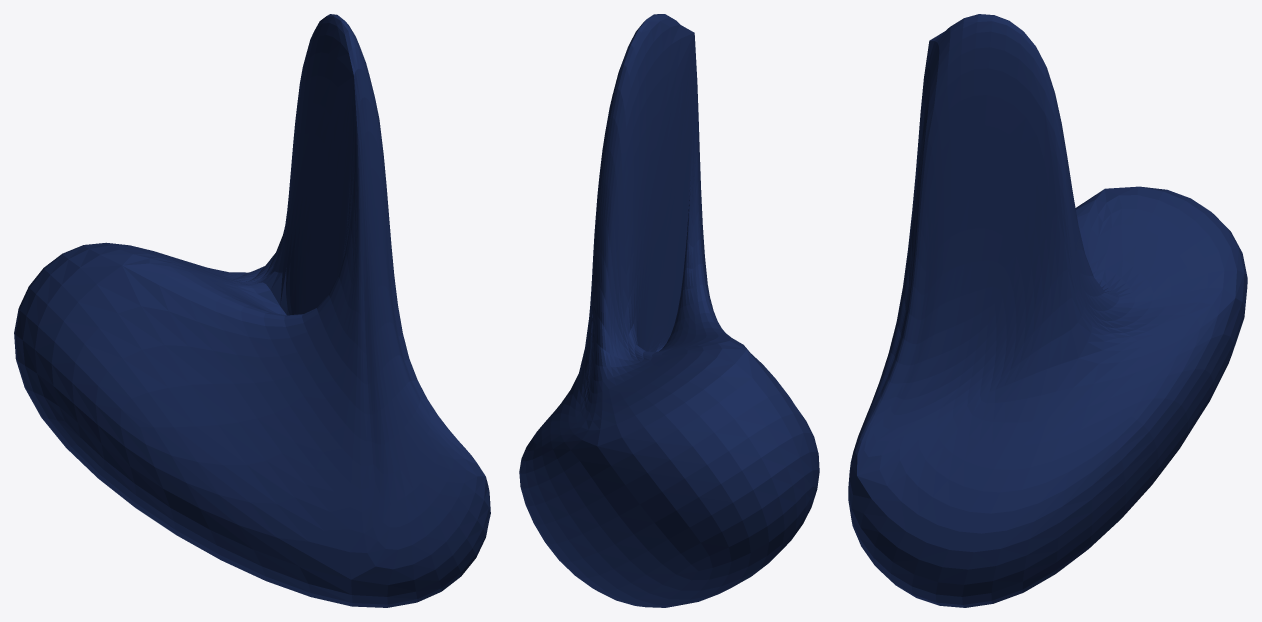
3 renders of one model, left to right at view 1: azimuth 30°, elevation 25°; view 2: azimuth 150°, elevation 25°; view 3: azimuth 270°, elevation 25°, orthographic.
Parts seen in each view (by area): view 1: 579_Cube.2332; view 2: 579_Cube.2332; view 3: 579_Cube.2332.
Part boxes in pixels (<box>): 579_Cube.2332: <box>14,14,490,607</box>; 579_Cube.2332: <box>519,14,819,607</box>; 579_Cube.2332: <box>848,14,1247,607</box>.
Size of the model in its own units: 8.52 by 13.56 by 8.62.
